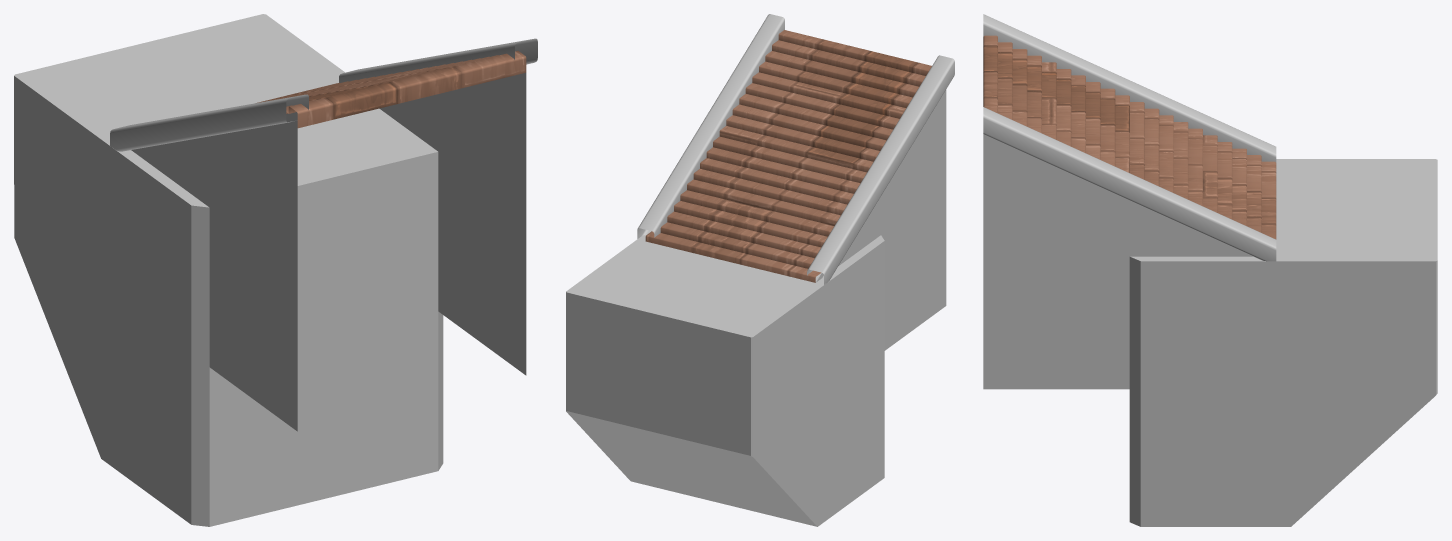
The model's file is SM_stairs_02.fbx.
The picture shows the model from 3 angles, left to right: view 1: azimuth 30°, elevation 25°; view 2: azimuth 150°, elevation 25°; view 3: azimuth 270°, elevation 25°; orthographic projection. The views are drawn at different scales.
Visible parts, largest first — view 1: SM_stairs_02_ConvexHulls, SM_stairs_02; view 2: SM_stairs_02_ConvexHulls, SM_stairs_02; view 3: SM_stairs_02_ConvexHulls, SM_stairs_02.
Boxes of the visible parts, x1,y1,x2,y2 form: SM_stairs_02_ConvexHulls: (14,14,443,526); SM_stairs_02: (110,38,537,431); SM_stairs_02_ConvexHulls: (566,235,884,526); SM_stairs_02: (637,14,954,350); SM_stairs_02_ConvexHulls: (1129,159,1437,526); SM_stairs_02: (983,14,1276,389).
Bounding box in the file's own units: 330 × 620 × 620.
